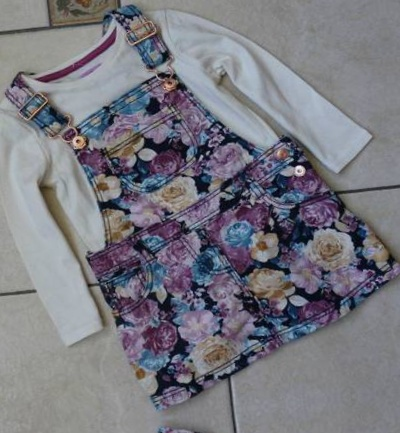Dress: (0, 0, 400, 432), (3, 395, 400, 433), (384, 0, 400, 382), (0, 44, 1, 433)
